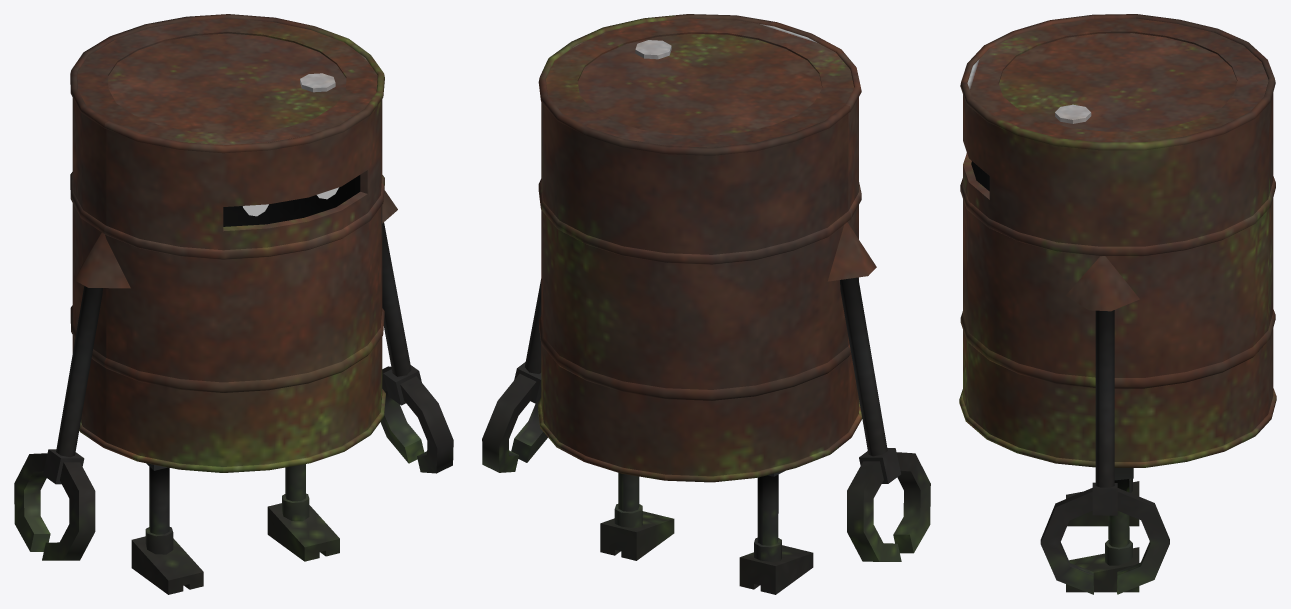
The model's file is enemy_model.fbx.
3 renders of one model, left to right at view 1: azimuth 30°, elevation 25°; view 2: azimuth 150°, elevation 25°; view 3: azimuth 270°, elevation 25°, orthographic. The views are drawn at different scales.
Visible parts, largest first — view 1: polySurface76; view 2: polySurface76; view 3: polySurface76.
Part boxes in pixels (<box>): polySurface76: <box>14,14,453,594</box>; polySurface76: <box>482,14,930,594</box>; polySurface76: <box>959,14,1276,594</box>.
Size of the model in its own units: 383 by 439 by 268.
Materials: 2 (1 with a texture image).
